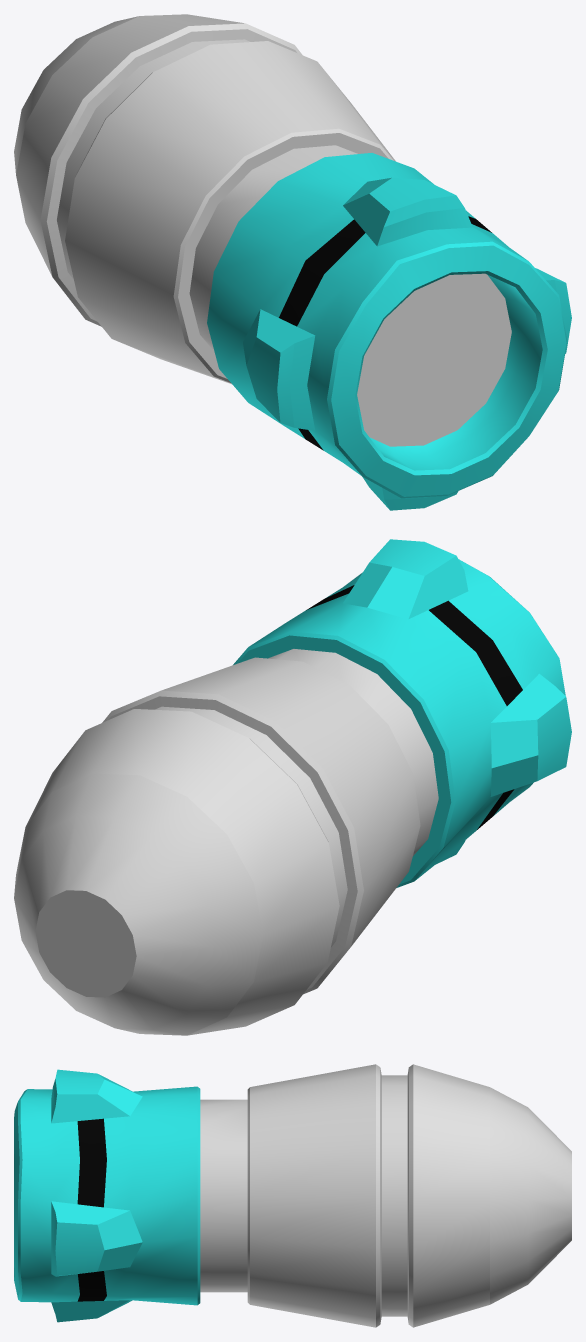
File: MissileMoyen.fbx
The picture shows the model from 3 angles, top to bottom: view 1: azimuth 30°, elevation 25°; view 2: azimuth 150°, elevation 25°; view 3: azimuth 270°, elevation 25°; orthographic projection. The views are drawn at different scales.
Visible parts, largest first — view 1: Cylinder; view 2: Cylinder; view 3: Cylinder.
Boxes of the visible parts, box(x1,y1,x2,y2) form: Cylinder: box(14, 14, 571, 510); Cylinder: box(14, 539, 571, 1035); Cylinder: box(14, 1064, 571, 1327).
Bounding box in the file's own units: 240 × 240 × 509.
